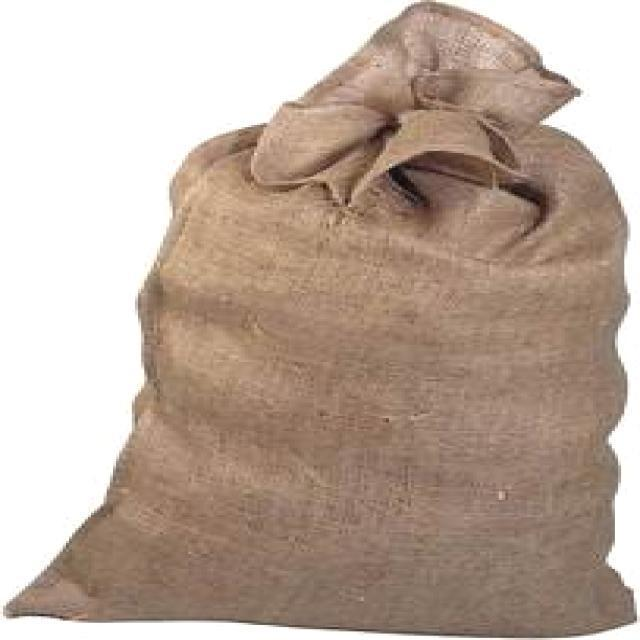gunny_bag: (0, 0, 638, 640)
